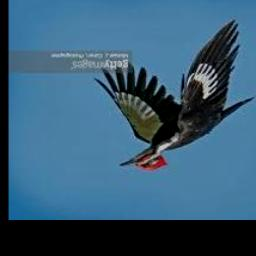Woodpecker: (93, 19, 255, 171)
